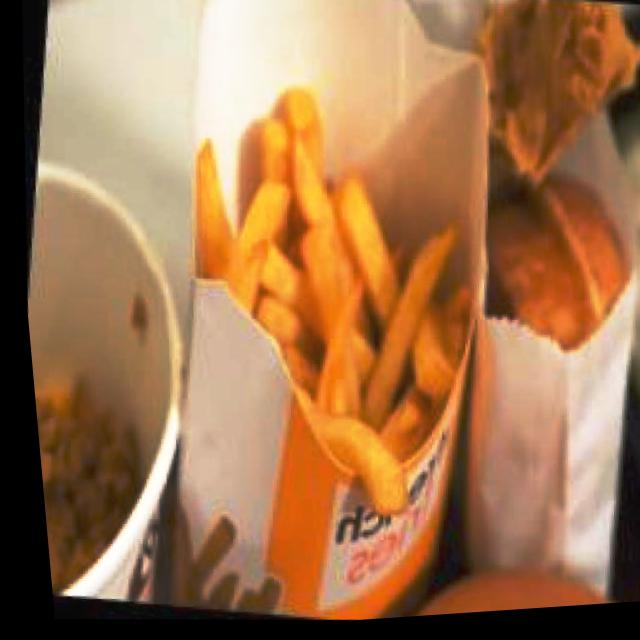french fries: (166, 72, 506, 529)
